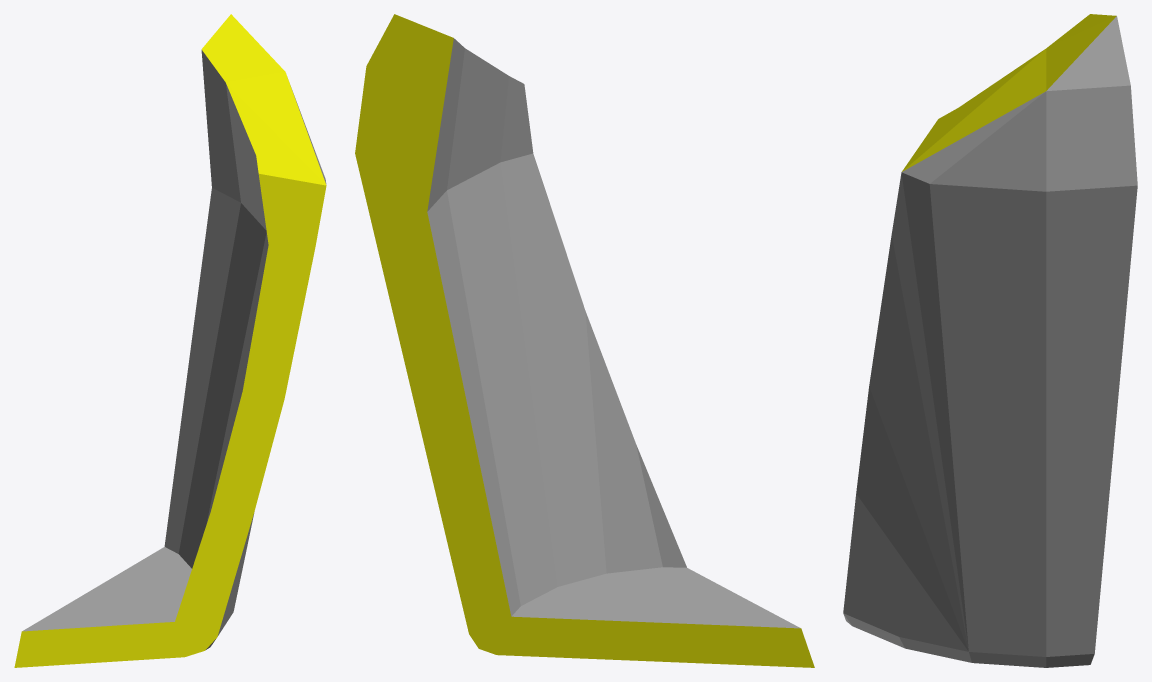
Rendered from SM_brokenVase_Part3.fbx.
The picture shows the model from 3 angles, left to right: view 1: azimuth 30°, elevation 25°; view 2: azimuth 150°, elevation 25°; view 3: azimuth 270°, elevation 25°; orthographic projection. The views are drawn at different scales.
Parts seen in each view (by area): view 1: SM_brokenVase_part3; view 2: SM_brokenVase_part3; view 3: SM_brokenVase_part3.
Part boxes in pixels (box(x1,y1,x2,y2)): SM_brokenVase_part3: box(14, 14, 326, 667); SM_brokenVase_part3: box(355, 14, 814, 667); SM_brokenVase_part3: box(843, 14, 1137, 667).
Bounding box in the file's own units: 44.44 × 70.6 × 27.16.
